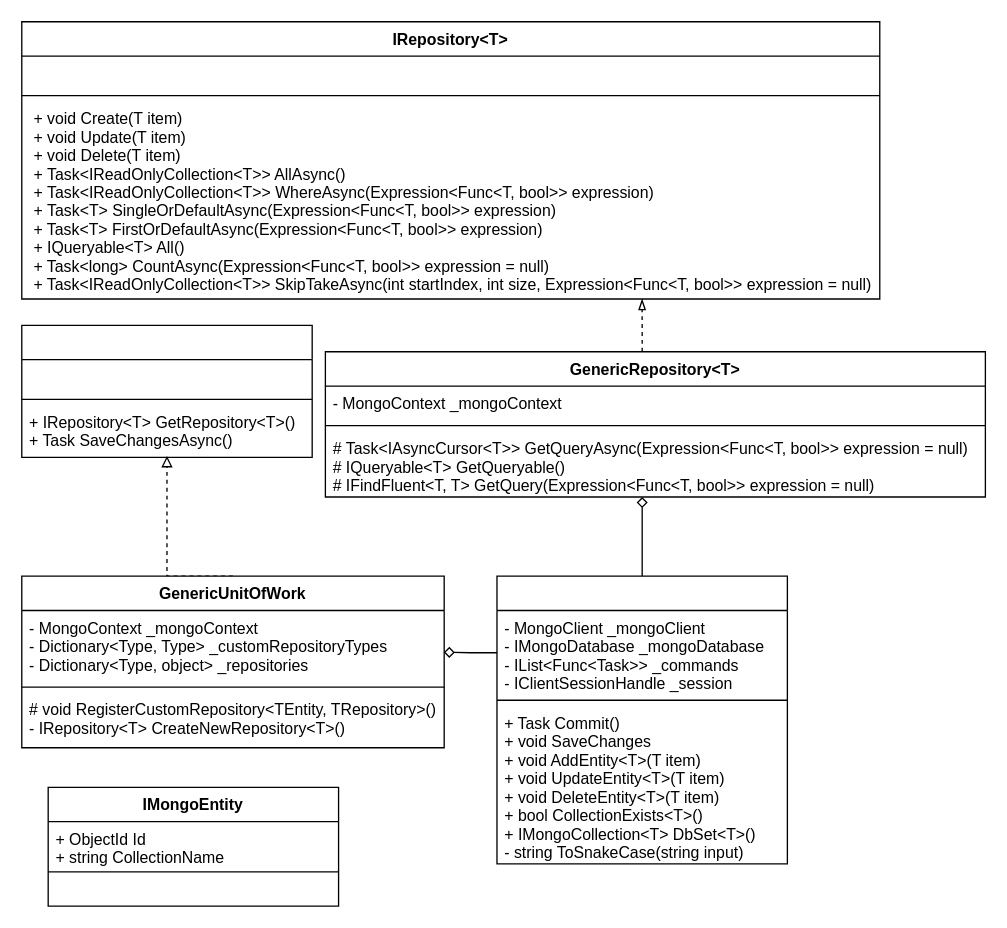
Some shapes in this 1007 by 928 pixel diagram are drawn without their labels. The shapes that lost their labels are listed below. From the top down, each one's box as (x1, y1, x2, y2) in pixels, then its label:
(20, 324, 312, 457): IUnitOfWork
(496, 575, 787, 864): MongoContext
